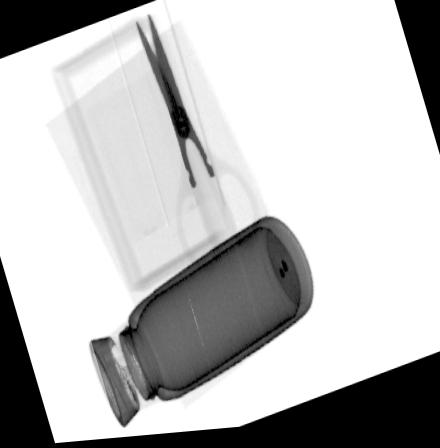Scissors: (134, 13, 262, 280)
